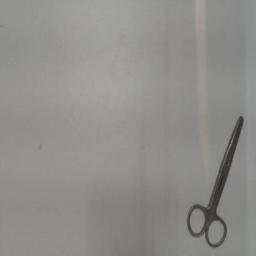Dressing Scissors: (180, 109, 250, 251)
